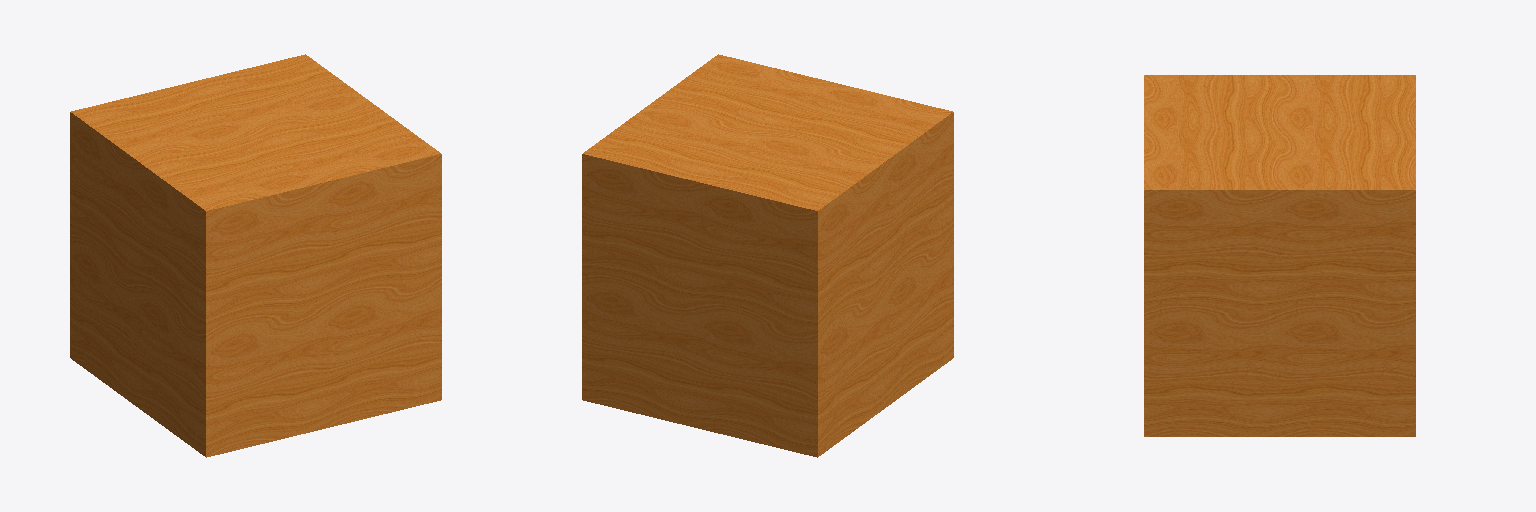
3 views of the same model, side by side, from view 1: azimuth 30°, elevation 25°; view 2: azimuth 150°, elevation 25°; view 3: azimuth 270°, elevation 25° (orthographic).
Parts seen in each view (by area): view 1: floor_Cube.001; view 2: floor_Cube.001; view 3: floor_Cube.001.
Boxes of the visible parts, box(x1,y1,x2,y2) form: floor_Cube.001: box(70, 54, 441, 457); floor_Cube.001: box(582, 54, 953, 457); floor_Cube.001: box(1144, 75, 1415, 436).
Size of the model in its own units: 2 by 2 by 2.
1 materials, 1 textured.